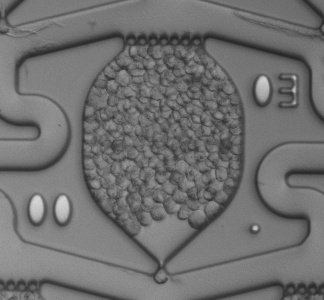AptNum: (245, 67, 305, 115)
Marker: (244, 218, 266, 239)
StNum: (19, 183, 83, 234)
Trap: (135, 265, 190, 300)
